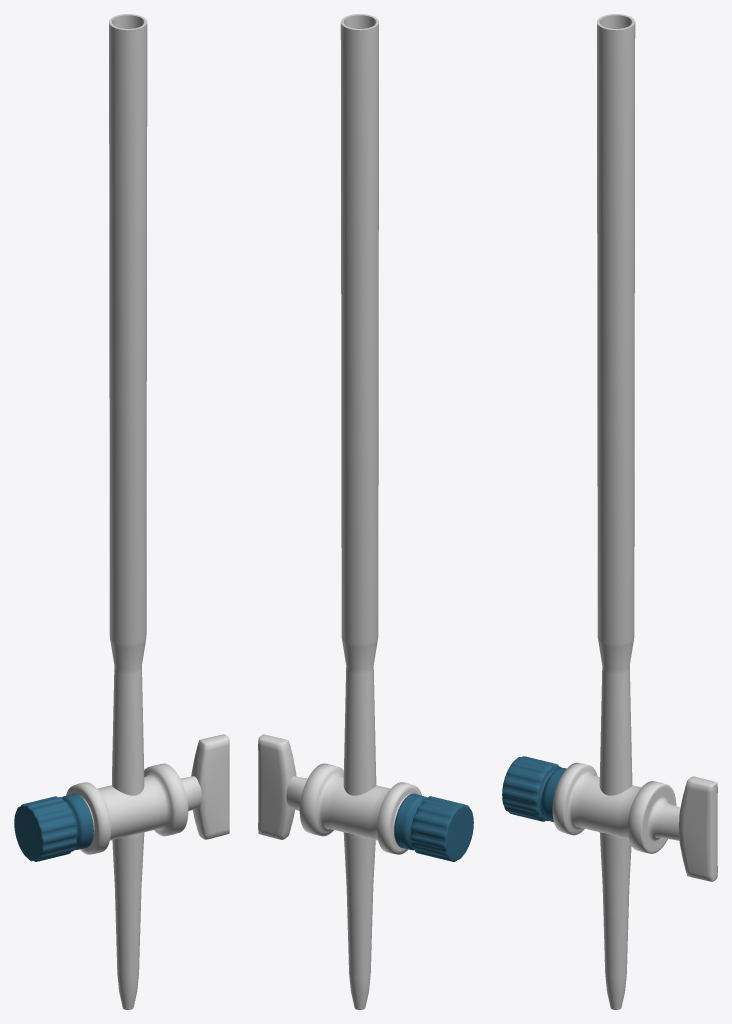
Rendered from byreta.fbx.
The picture shows the model from 3 angles, left to right: view 1: azimuth 30°, elevation 25°; view 2: azimuth 150°, elevation 25°; view 3: azimuth 330°, elevation 25°; orthographic projection.
Parts seen in each view (by area): view 1: Cylinder.022, Cylinder.025, Cylinder.026; view 2: Cylinder.022, Cylinder.025, Cylinder.026; view 3: Cylinder.022, Cylinder.025, Cylinder.026.
Part boxes in pixels (x1,y1,x2,y2): Cylinder.022: [109, 14, 147, 1009]; Cylinder.025: [66, 734, 229, 854]; Cylinder.026: [14, 793, 93, 861]; Cylinder.022: [340, 14, 378, 1009]; Cylinder.025: [258, 734, 421, 854]; Cylinder.026: [394, 793, 473, 861]; Cylinder.022: [597, 14, 635, 1009]; Cylinder.025: [552, 762, 717, 881]; Cylinder.026: [502, 756, 566, 822].
Size of the model in its own units: 110 by 520 by 34.49.
